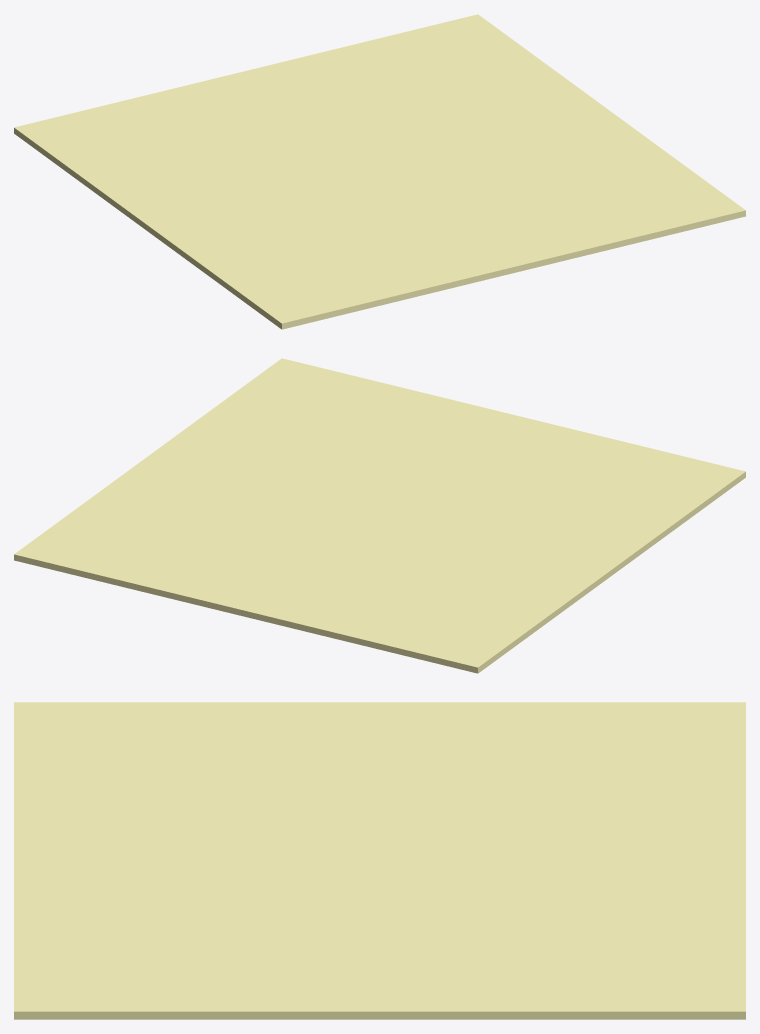
File: road_concrete_distressed.glb
The picture shows the model from 3 angles, top to bottom: view 1: azimuth 30°, elevation 25°; view 2: azimuth 150°, elevation 25°; view 3: azimuth 270°, elevation 25°; orthographic projection. The views are drawn at different scales.
Parts seen in each view (by area): view 1: base; view 2: base; view 3: base.
Boxes of the visible parts, bbox=[...] form: base: bbox=[14, 14, 745, 329]; base: bbox=[14, 358, 745, 673]; base: bbox=[14, 702, 745, 1019].
Bounding box in the file's own units: 4 × 0.05 × 4.
